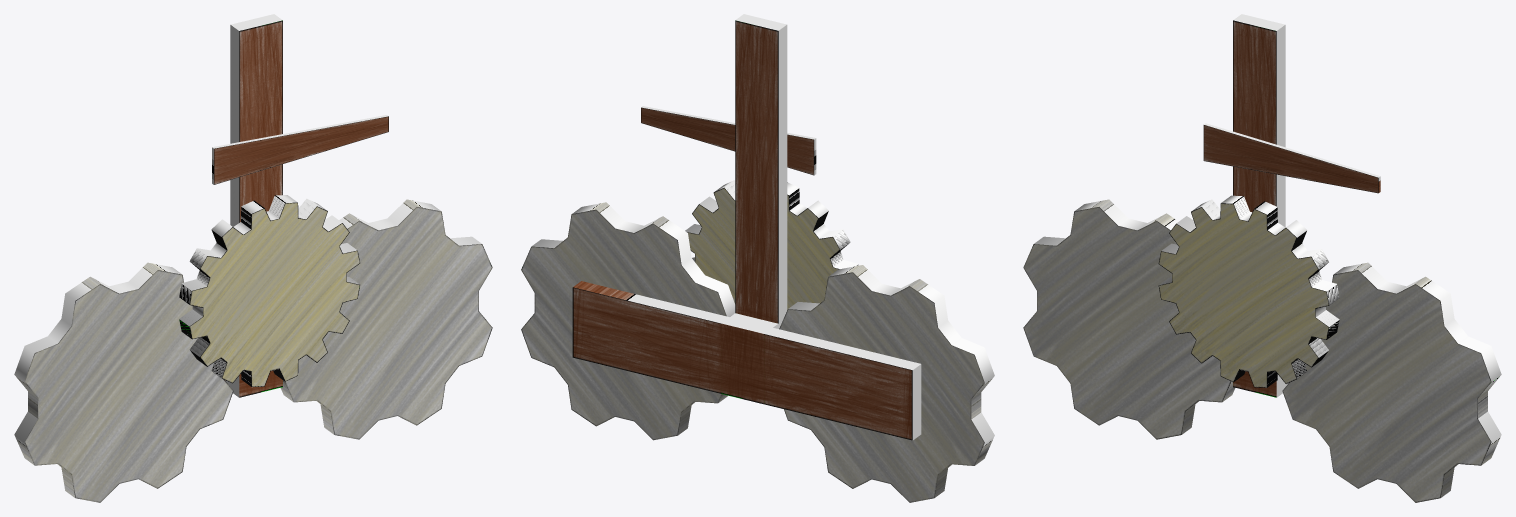
File: Gear_03.FBX
3 renders of one model, left to right at view 1: azimuth 30°, elevation 25°; view 2: azimuth 150°, elevation 25°; view 3: azimuth 330°, elevation 25°, orthographic.
Parts seen in each view (by area): view 1: Star002, Star001, Star003, Box001, Box002; view 2: Box001, Star002, Star001, Star003, Box002; view 3: Star001, Star002, Star003, Box001, Box002.
Boxes of the visible parts, <box> form: Star002: <box>14,262,233,502</box>; Star001: <box>280,199,492,439</box>; Star003: <box>179,195,359,387</box>; Box001: <box>225,14,282,397</box>; Box002: <box>212,115,388,184</box>; Box001: <box>572,14,921,440</box>; Star002: <box>779,265,994,502</box>; Star001: <box>521,202,735,440</box>; Star003: <box>685,180,858,309</box>; Box002: <box>641,106,816,175</box>; Star001: <box>1282,262,1501,502</box>; Star002: <box>1023,199,1235,439</box>; Star003: <box>1158,195,1339,387</box>; Box001: <box>1233,14,1288,397</box>; Box002: <box>1203,123,1380,193</box>.
Bounding box in the file's own units: 102 × 91.74 × 13.35.
Materials: 4 (4 with a texture image).
